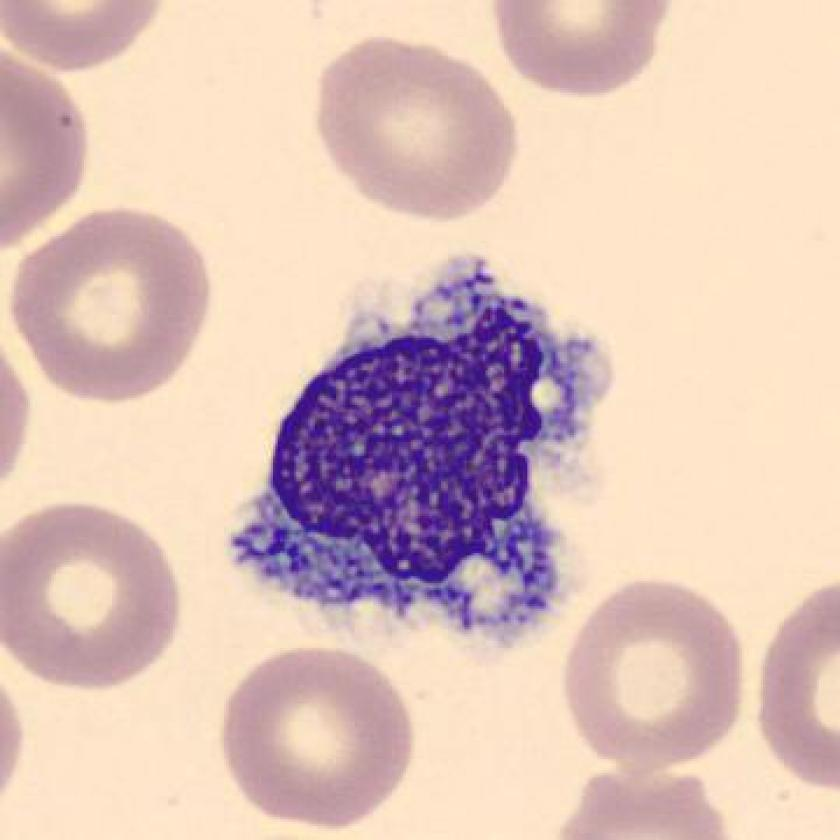monocyte: (216, 242, 633, 672)
